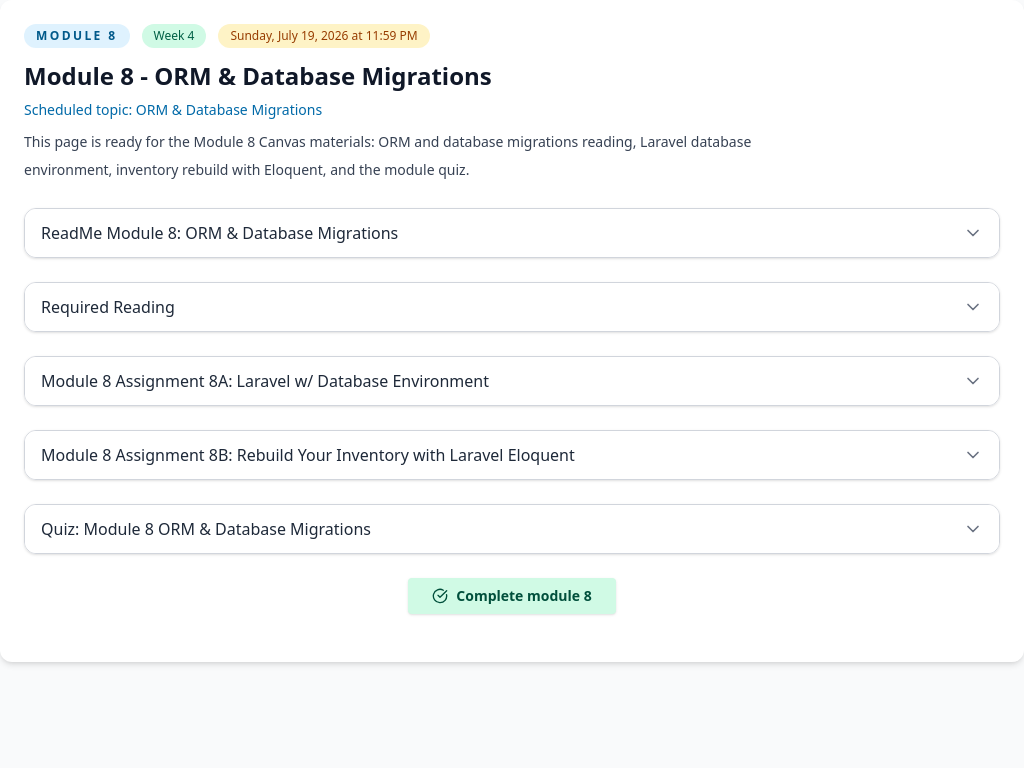
Test: <AssignmentMod8 /> › renders the Module 8 ORM and database migrations quiz
Click the button "Quiz: Module 8 ORM & Database Migrations" at (206,529), box [25,505,999,553]
(page scrolled)
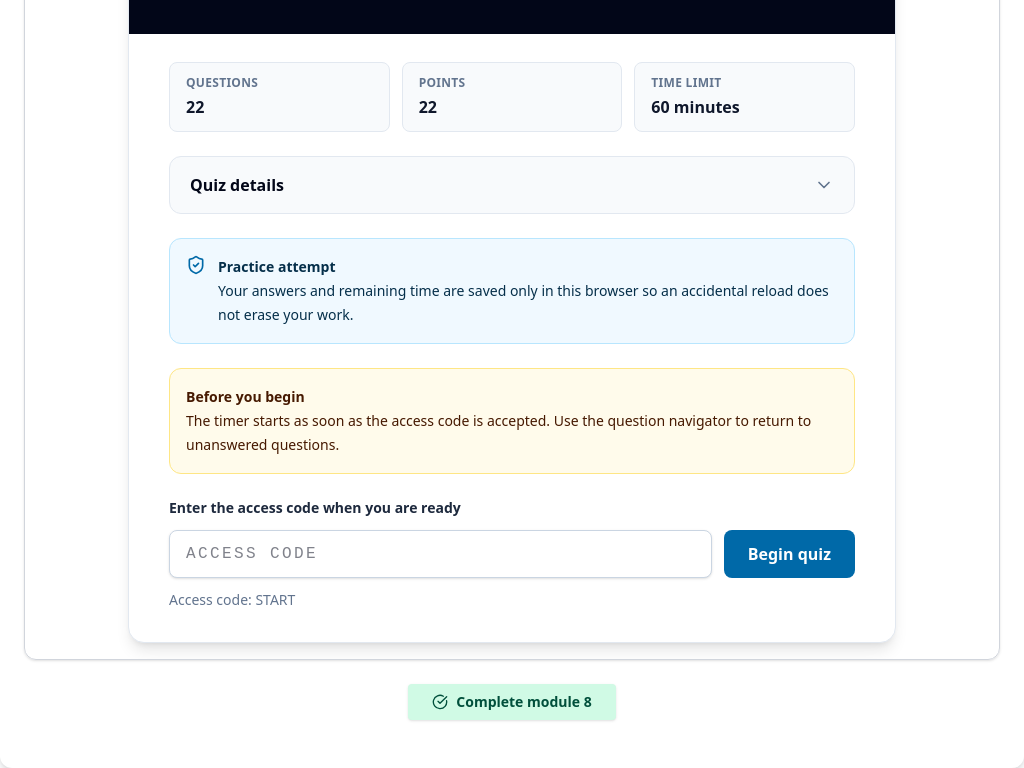
Expected: the text "Access code: START" is shown, [169,590,295,609]
Expected: the text "22" is shown 2 times, [186,96,204,118]; [419,96,437,118]
